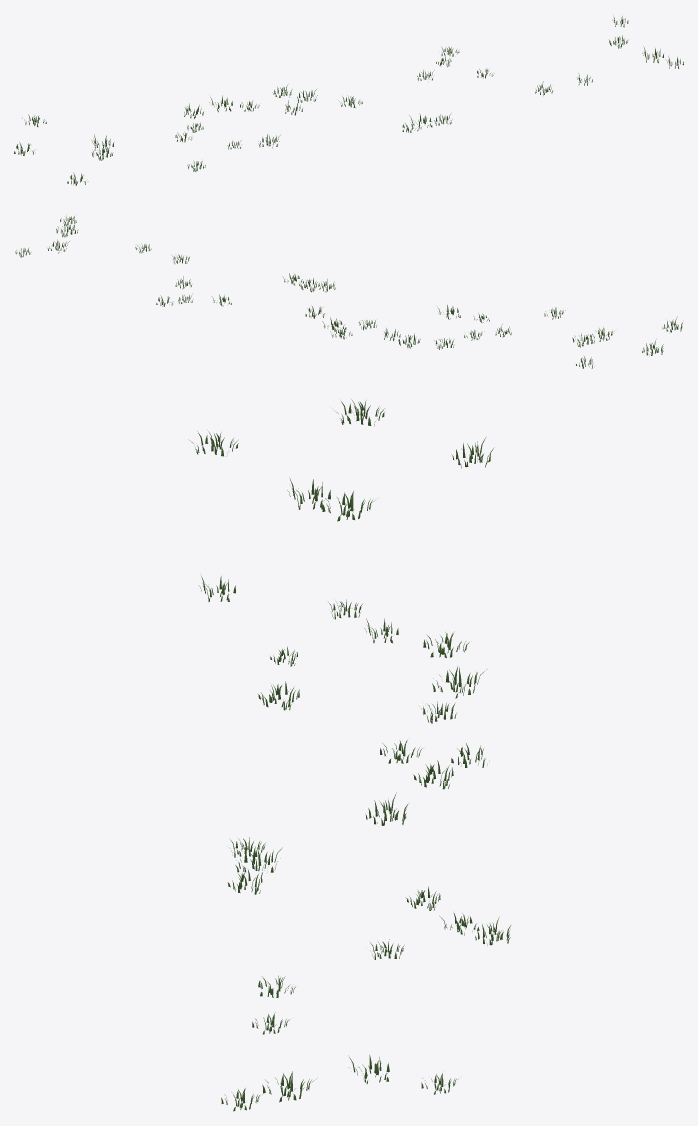
File: P2N_forest_grass_-9_4.glb
3 renders of one model, top to bottom at view 1: azimuth 30°, elevation 25°; view 2: azimuth 150°, elevation 25°; view 3: azimuth 270°, elevation 25°, orthographic. The views are drawn at different scales.
Visible parts, largest first — view 1: P2N_forest_grass_-9_4; view 2: P2N_forest_grass_-9_4; view 3: P2N_forest_grass_-9_4.
Boxes of the visible parts, <box> form: P2N_forest_grass_-9_4: <box>14,16,683,185</box>; P2N_forest_grass_-9_4: <box>15,216,682,368</box>; P2N_forest_grass_-9_4: <box>188,399,510,1111</box>.
Size of the model in its own units: 30.93 by 2.48 by 6.88.
